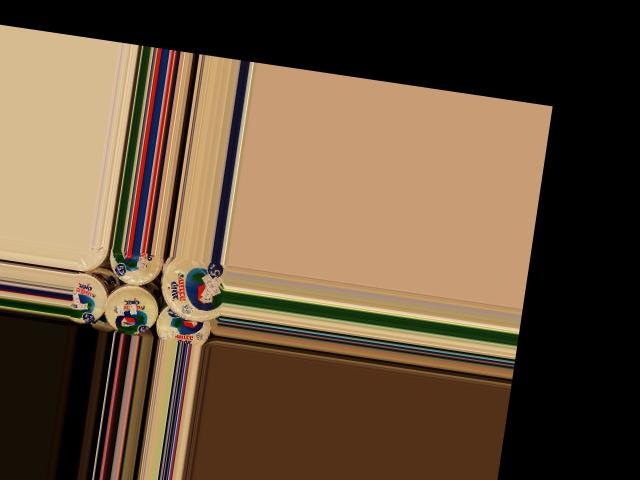cotage: (150, 304, 213, 346)
